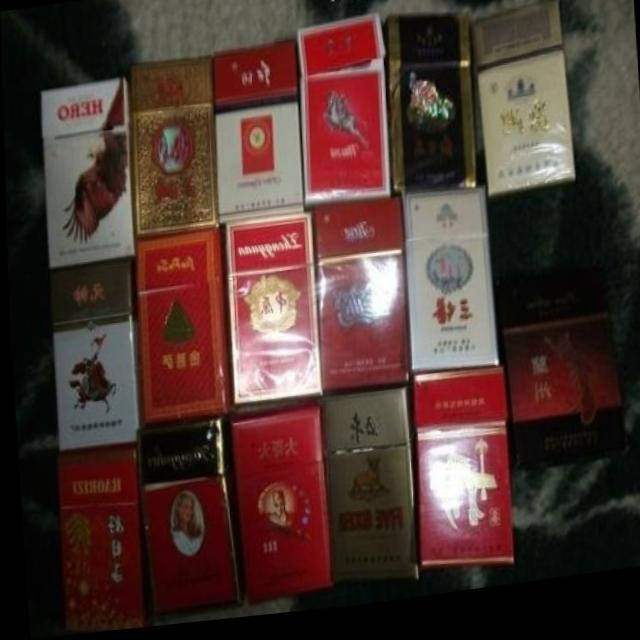box: (136, 419, 237, 624), (469, 13, 574, 206), (409, 379, 511, 577), (317, 391, 415, 596), (229, 406, 326, 610), (310, 204, 408, 398), (223, 216, 318, 409), (296, 20, 390, 215), (135, 227, 226, 426), (39, 81, 134, 268), (47, 259, 137, 453), (54, 444, 145, 633), (400, 198, 495, 379), (211, 47, 304, 227), (380, 21, 472, 198), (129, 62, 218, 240), (497, 325, 619, 435)
